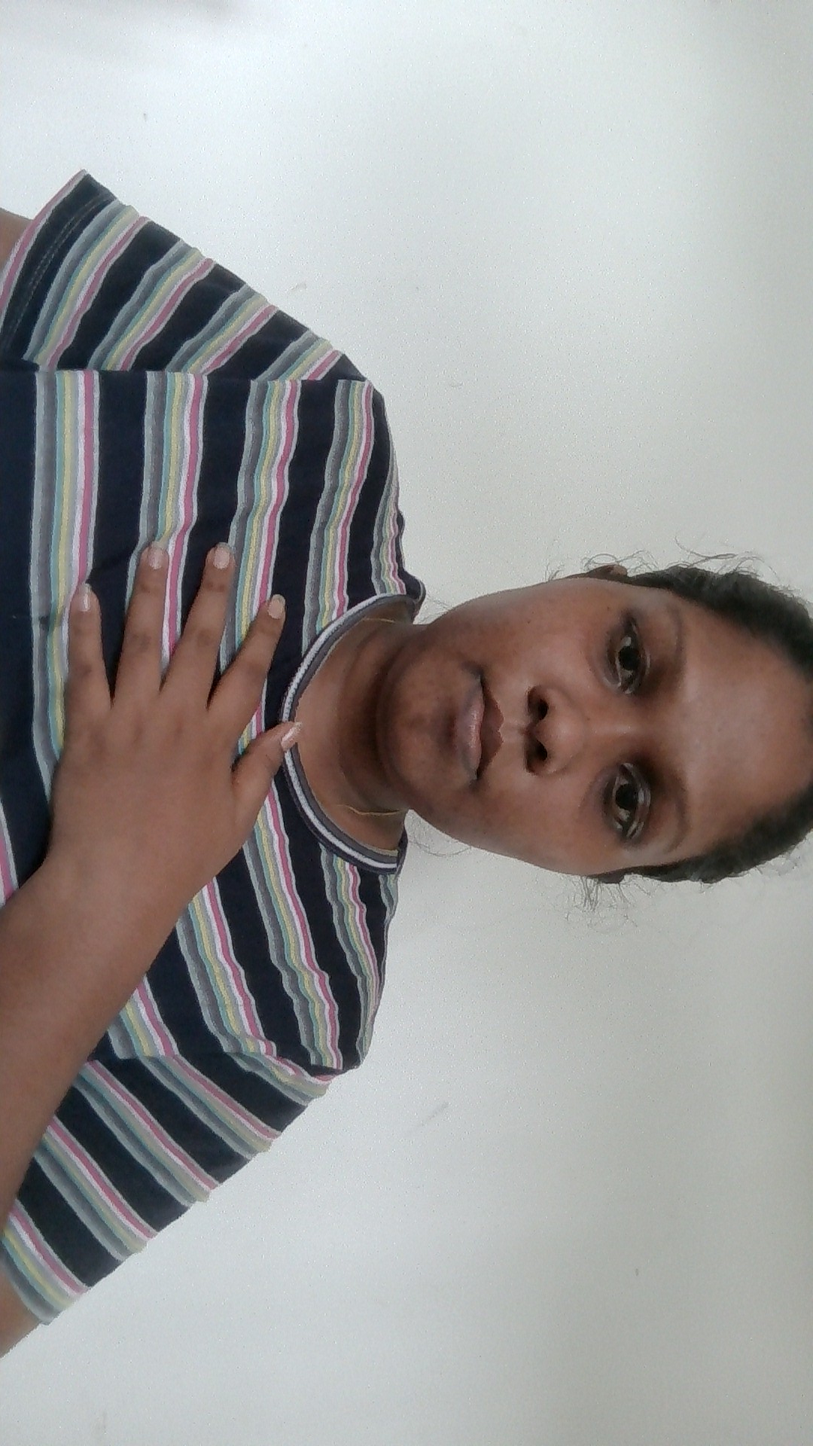Please: (45, 423, 316, 1037)
